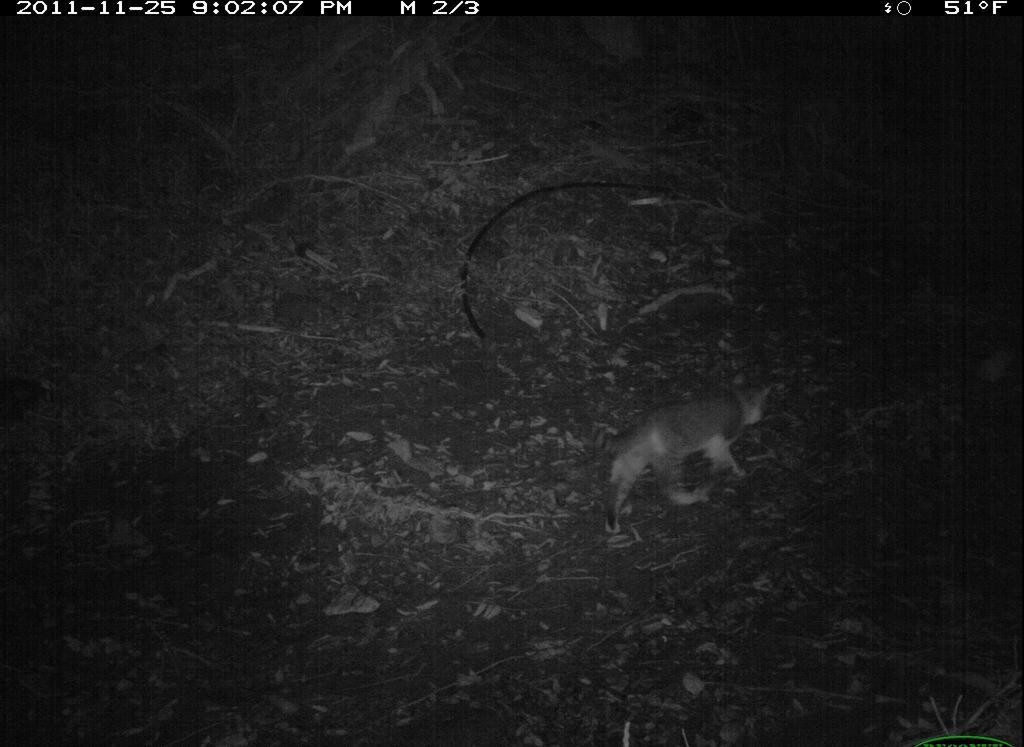cat: (585, 359, 804, 564)
